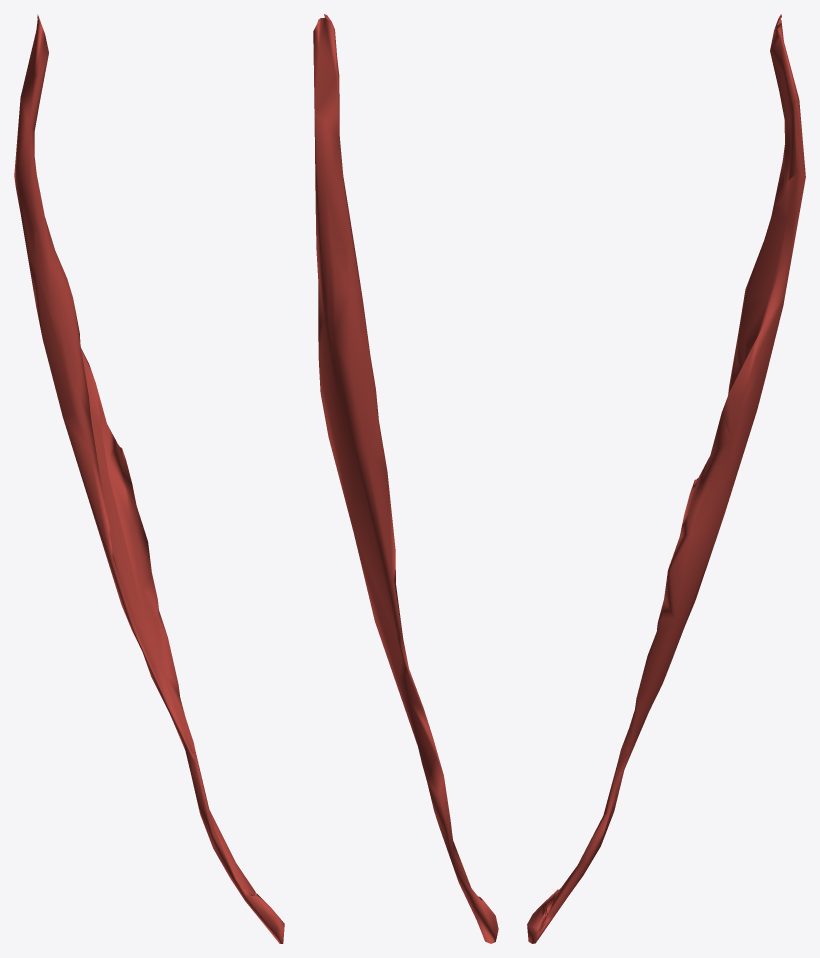
File: musculos-humeral-head-of-extensor-carpi-ulnaris-r.glb
The picture shows the model from 3 angles, left to right: view 1: azimuth 90°, elevation 25°; view 2: azimuth 150°, elevation 25°; view 3: azimuth 270°, elevation 25°; orthographic projection. The views are drawn at different scales.
Parts seen in each view (by area): view 1: Humeral head of extensor carpi ulnaris.r; view 2: Humeral head of extensor carpi ulnaris.r; view 3: Humeral head of extensor carpi ulnaris.r.
Boxes of the visible parts, x1,y1,x2,y2 form: Humeral head of extensor carpi ulnaris.r: (14,14,284,943); Humeral head of extensor carpi ulnaris.r: (313,14,498,943); Humeral head of extensor carpi ulnaris.r: (527,14,805,943).
Size of the model in its own units: 0.0191 by 0.2889 by 0.0774.
